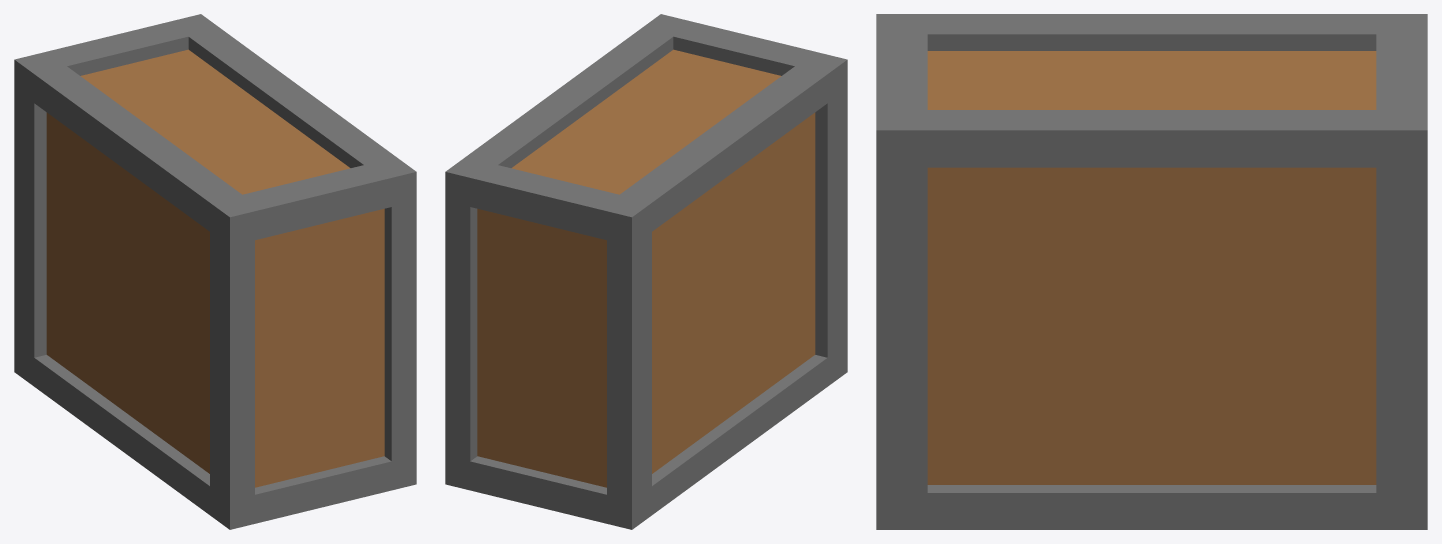
The picture shows the model from 3 angles, left to right: view 1: azimuth 30°, elevation 25°; view 2: azimuth 150°, elevation 25°; view 3: azimuth 270°, elevation 25°; orthographic projection. The views are drawn at different scales.
Parts seen in each view (by area): view 1: Cube; view 2: Cube; view 3: Cube.
Part boxes in pixels (<box>): Cube: <box>14,14,416,529</box>; Cube: <box>445,14,847,529</box>; Cube: <box>876,14,1427,529</box>.
Size of the model in its own units: 205 by 327 by 409.
